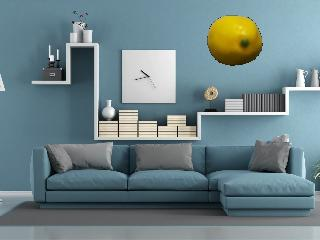lemon: (207, 15, 264, 67)
